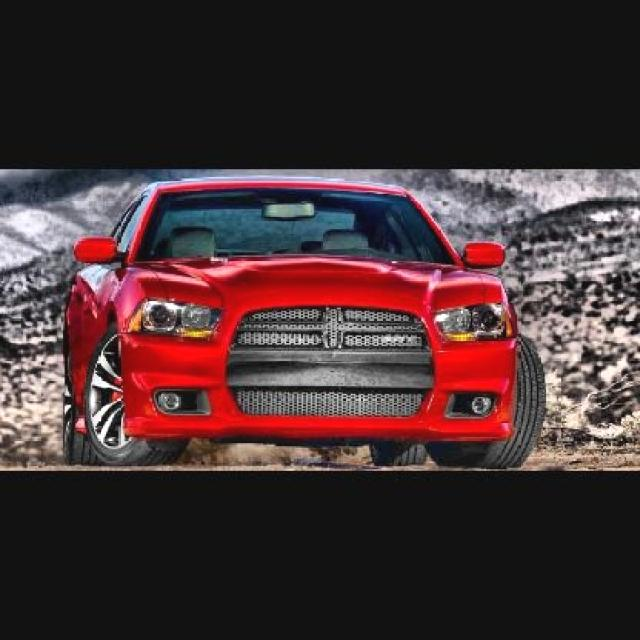red: (57, 166, 520, 470)
